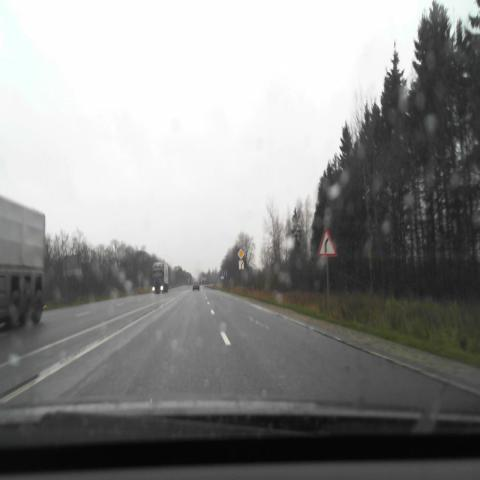1_11_1: (317, 225, 337, 257)
